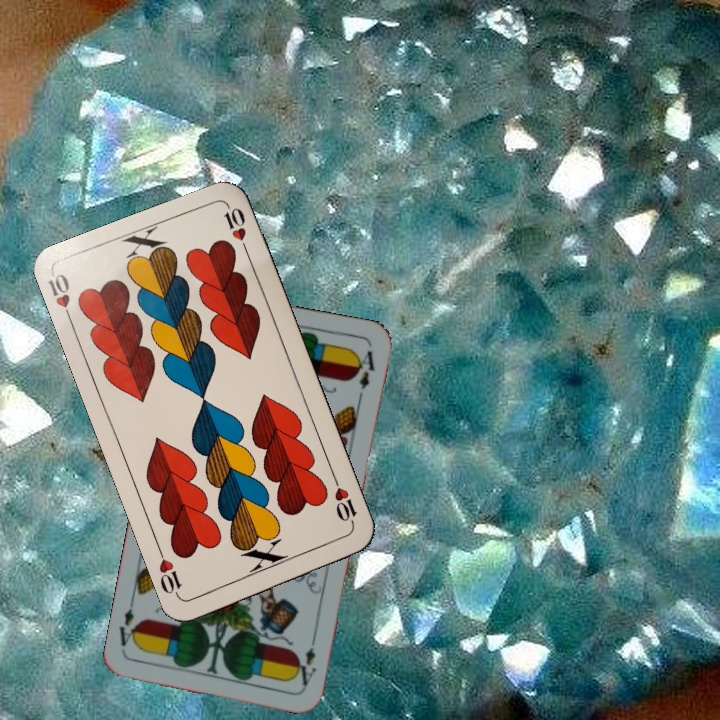EA: (296, 630, 319, 689)
H10: (44, 269, 76, 328), (329, 473, 360, 531)
